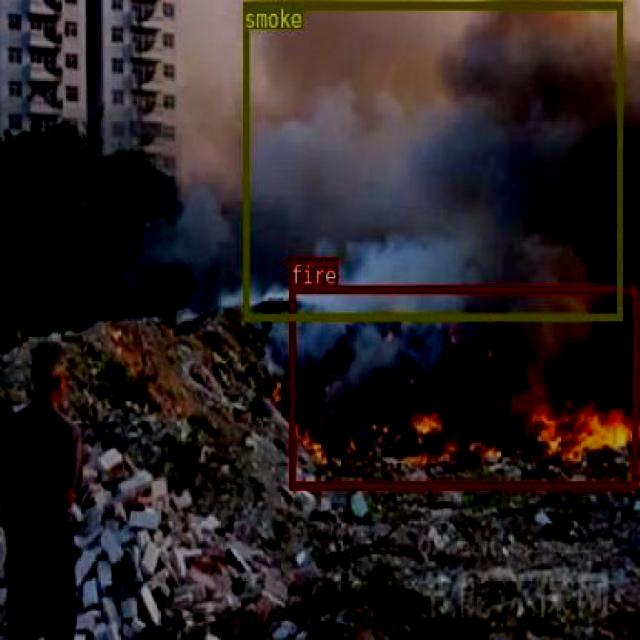fire: (289, 284, 637, 488)
smoke: (242, 1, 621, 320)
